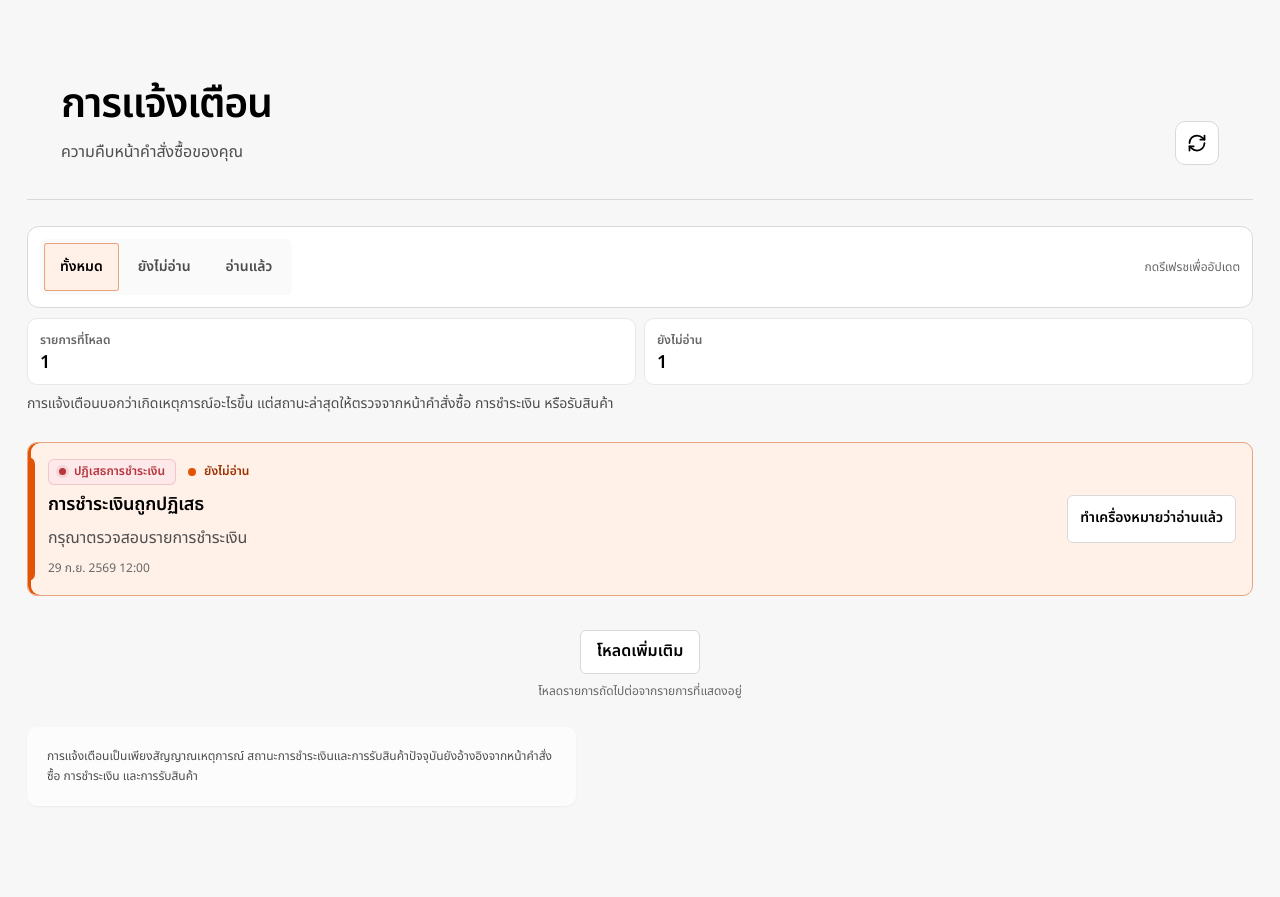
Test: NotificationsView › loads the next page with the opaque cursor
The image size is (1280, 897).
Expected: the heading "การชำระเงินถูกปฏิเสธ" is shown, [48, 491, 204, 518]
Click the button "โหลดเพิ่มเติม": (640, 652) [580, 630, 700, 674]
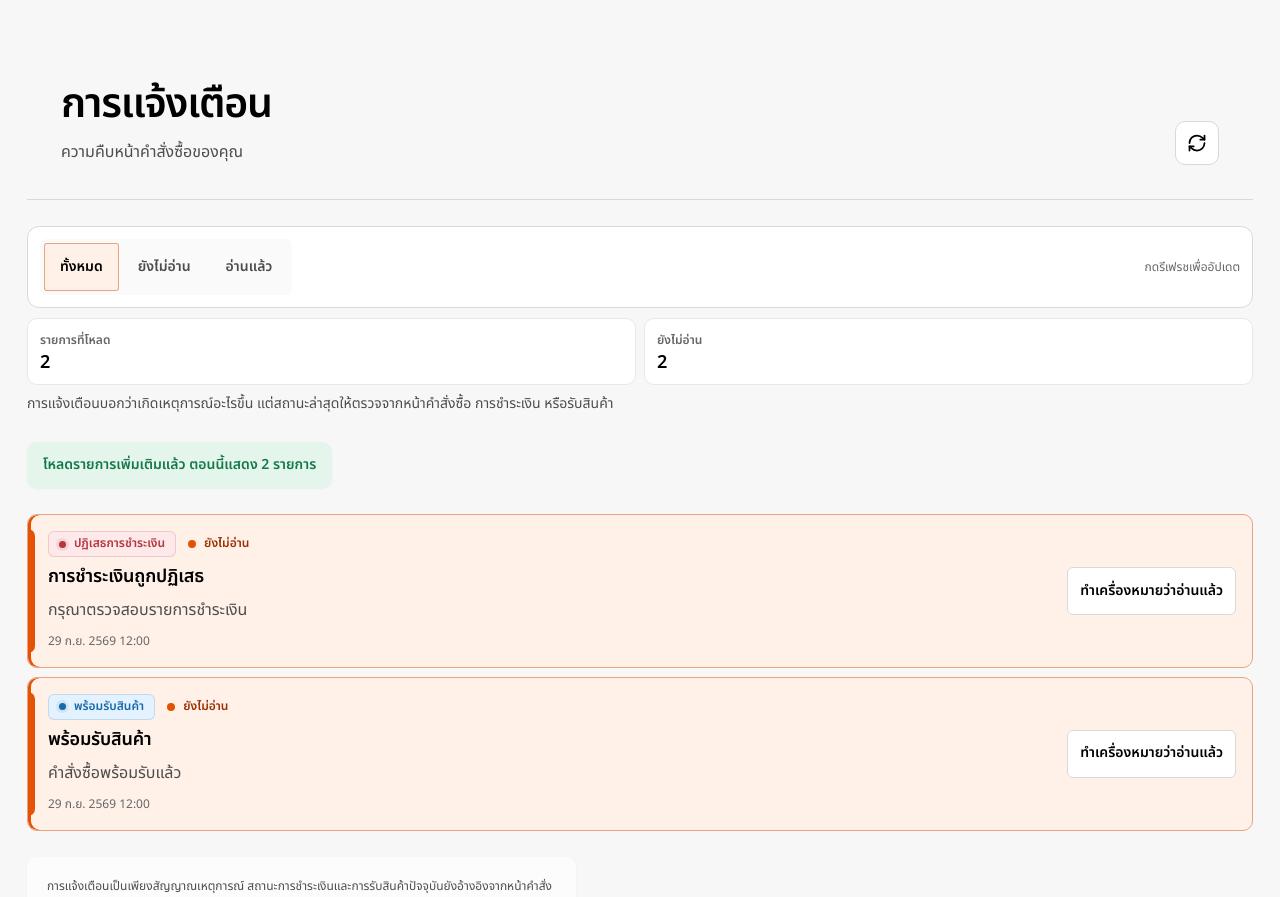
Expected: the heading "พร้อมรับสินค้า" is shown, [48, 726, 152, 753]
